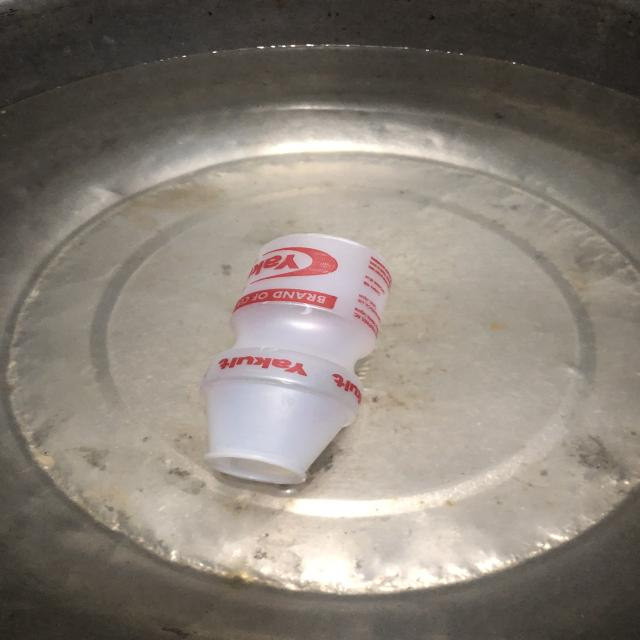Plastic Bottle: (155, 209, 404, 506)
